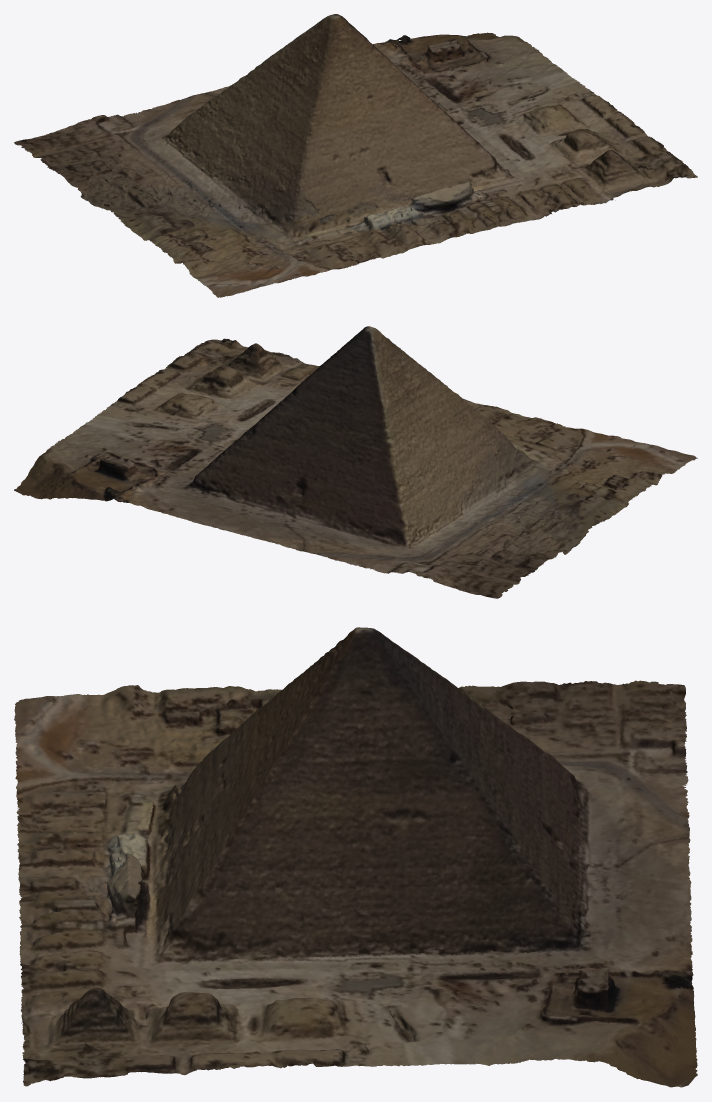
File: wonder_giza.glb
3 views of the same model, one above another, from view 1: azimuth 30°, elevation 25°; view 2: azimuth 150°, elevation 25°; view 3: azimuth 270°, elevation 25° (orthographic). The views are drawn at different scales.
Visible parts, largest first — view 1: mat-0 (×4); view 2: mat-0 (×4); view 3: mat-0 (×4).
Part boxes in pixels (x1=…): mat-0 (×4): x1=14, y1=14, x2=697, y2=297; mat-0 (×4): x1=14, y1=326, x2=697, y2=598; mat-0 (×4): x1=14, y1=627, x2=697, y2=1087.
Bounding box in the file's own units: 3.99 × 1.23 × 2.95.
1 material, 1 textured.
